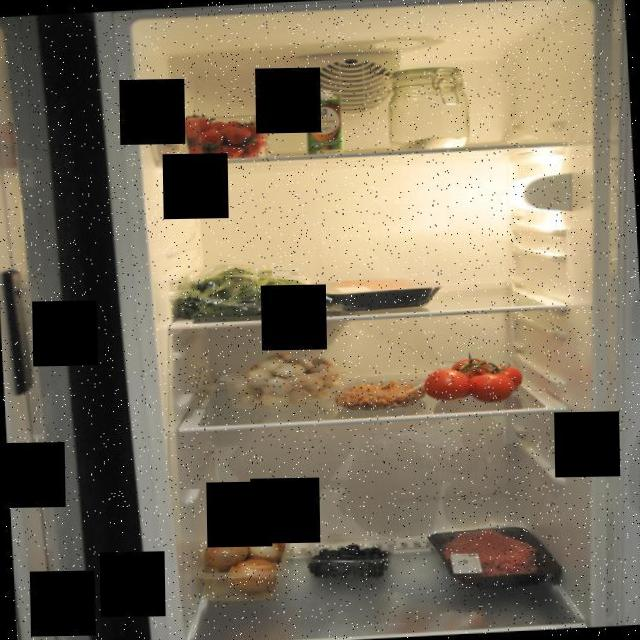Cebolla: (202, 526, 288, 592)
Champiñones: (209, 346, 352, 411)
Gambas/Langostinos: (336, 376, 416, 410)
Tomate: (419, 348, 528, 407)
